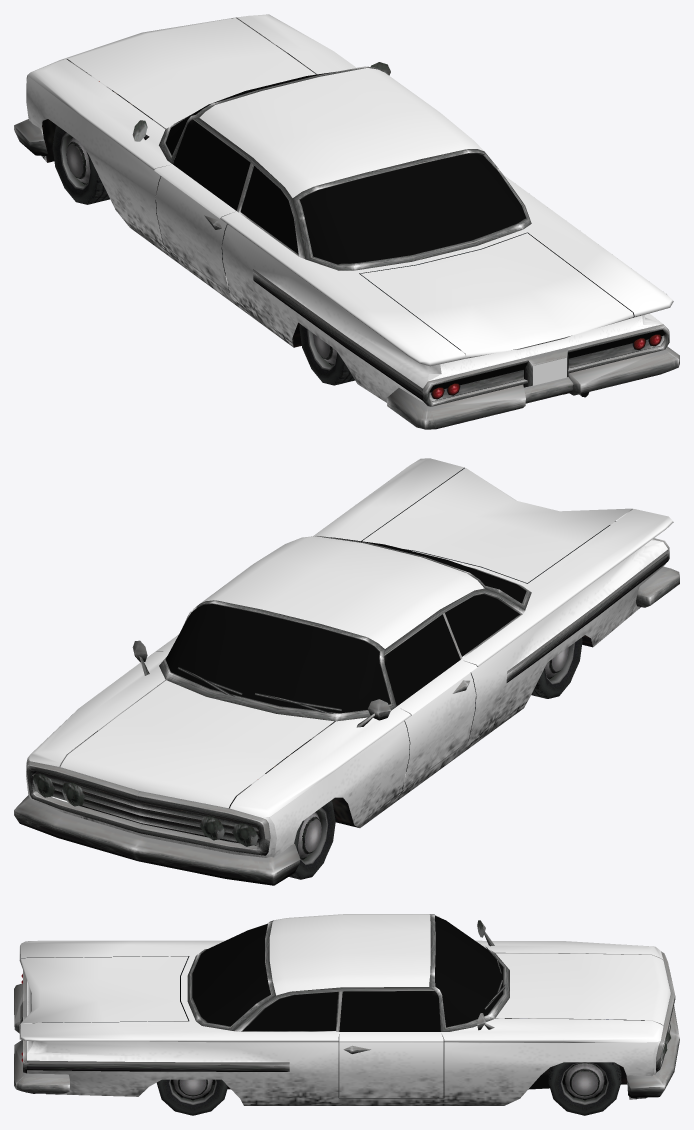
Rendered from voodoo obojen.glb.
3 renders of one model, top to bottom at view 1: azimuth 30°, elevation 25°; view 2: azimuth 150°, elevation 25°; view 3: azimuth 270°, elevation 25°, orthographic. The views are drawn at different scales.
Visible parts, largest first — view 1: chassis, boot_ok, bonnet_ok, door_lf_ok, bump_rear_ok, wheel.002, wheel.003, bump_front_ok, windscreen_ok, plate_rear; view 2: chassis, bonnet_ok, windscreen_ok, boot_ok, door_lf_ok, bump_front_ok, wheel.002, wheel.003, bump_rear_ok; view 3: chassis, door_rf_ok, bonnet_ok, boot_ok, windscreen_ok, wheel, wheel.001, bump_rear_ok, bump_front_ok.
Part boxes in pixels (left/top/right/bottom): chassis: left=26, top=14, right=673, bottom=406; boot_ok: left=360, top=233, right=633, bottom=358; bonnet_ok: left=62, top=18, right=315, bottom=128; door_lf_ok: left=154, top=119, right=250, bottom=292; bump_rear_ok: left=387, top=346, right=679, bottom=429; wheel.002: left=52, top=125, right=109, bottom=204; wheel.003: left=299, top=324, right=354, bottom=385; bump_front_ok: left=14, top=119, right=48, bottom=155; windscreen_ok: left=165, top=72, right=334, bottom=155; plate_rear: left=533, top=357, right=566, bottom=385; chassis: left=26, top=458, right=673, bottom=857; bonnet_ok: left=60, top=680, right=333, bottom=807; windscreen_ok: left=165, top=604, right=390, bottom=713; boot_ok: left=362, top=468, right=632, bottom=582; door_lf_ok: left=384, top=614, right=477, bottom=788; bump_front_ok: left=14, top=795, right=300, bottom=885; wheel.002: left=289, top=800, right=335, bottom=879; wheel.003: left=531, top=637, right=582, bottom=698; bump_rear_ok: left=636, top=566, right=679, bottom=607; chassis: left=19, top=914, right=675, bottom=1105; door_rf_ok: left=339, top=991, right=443, bottom=1097; bonnet_ok: left=496, top=953, right=670, bottom=1025; boot_ok: left=19, top=956, right=188, bottom=1024; windscreen_ok: left=435, top=916, right=502, bottom=1027; wheel: left=548, top=1062, right=621, bottom=1115; wheel.001: left=157, top=1079, right=228, bottom=1115; bump_rear_ok: left=14, top=983, right=69, bottom=1093; bump_front_ok: left=626, top=1005, right=679, bottom=1097.
Size of the model in its own units: 2.39 by 1.35 by 6.41.
29 materials, 26 textured.
